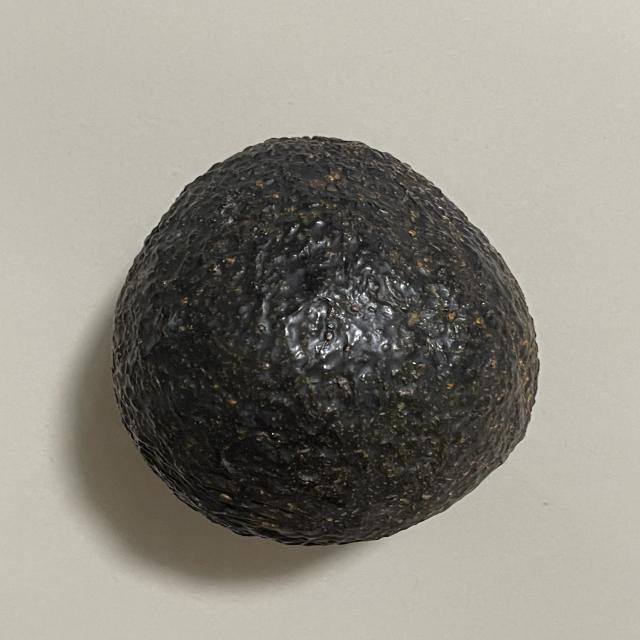Level2: (104, 128, 541, 550)
